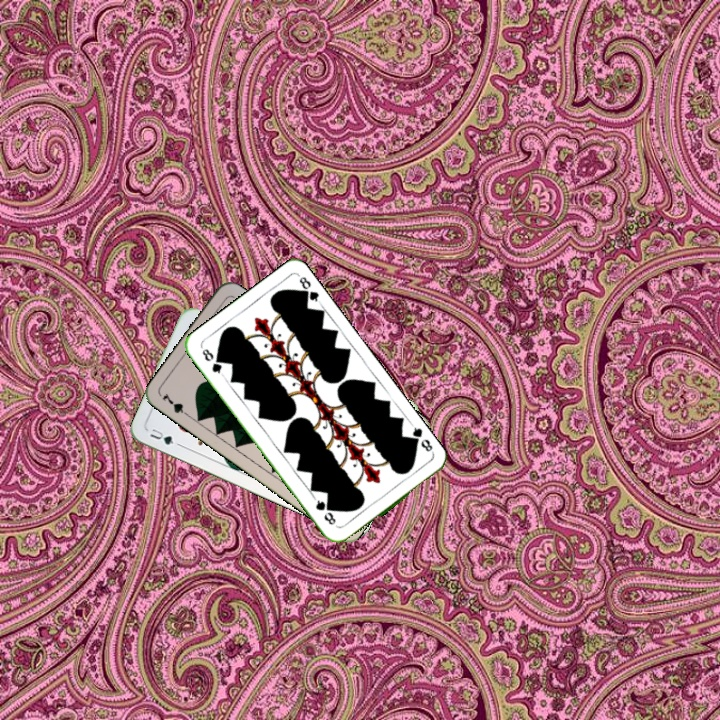G7: (158, 389, 193, 420)
G8: (405, 421, 437, 457), (198, 344, 226, 379)
GU: (146, 424, 176, 447)
